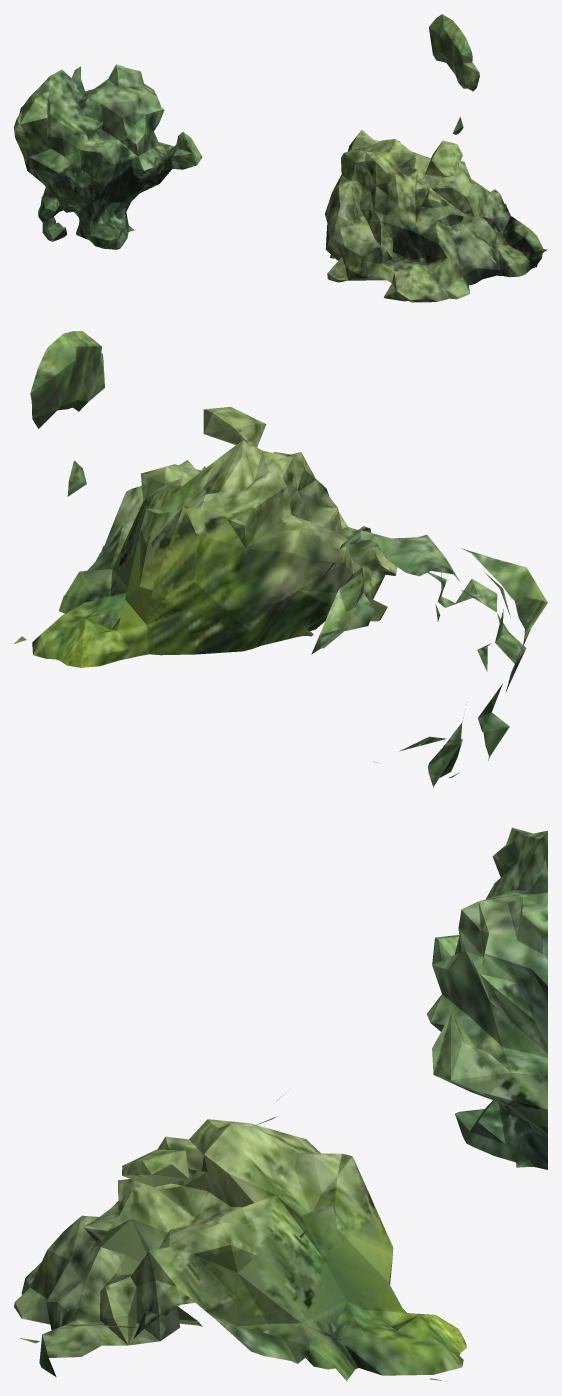
The picture shows the model from 3 angles, top to bottom: view 1: azimuth 30°, elevation 25°; view 2: azimuth 150°, elevation 25°; view 3: azimuth 270°, elevation 25°; orthographic projection. The views are drawn at different scales.
Bounding box in the file's own units: 21.51 × 10 × 15.75.
Materials: 2 (2 with a texture image).
